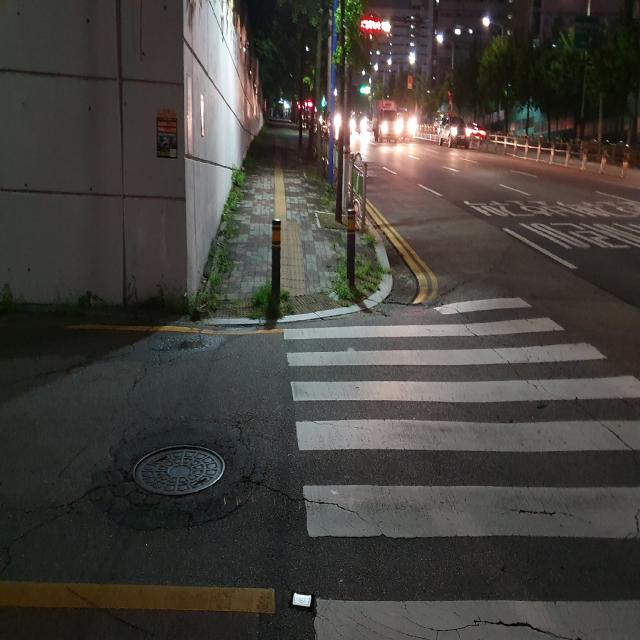횡단보도: (283, 298, 640, 640)
